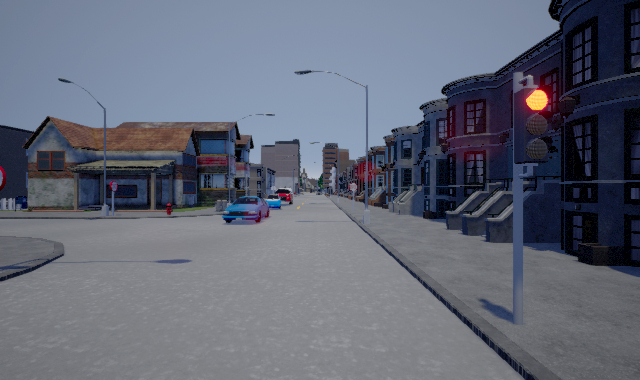traffic_light: (513, 84, 552, 164)
traffic_sign: (1, 166, 6, 191), (110, 181, 118, 192), (349, 183, 357, 191)
vehicle: (222, 195, 270, 225), (263, 192, 282, 209), (275, 188, 294, 204)
